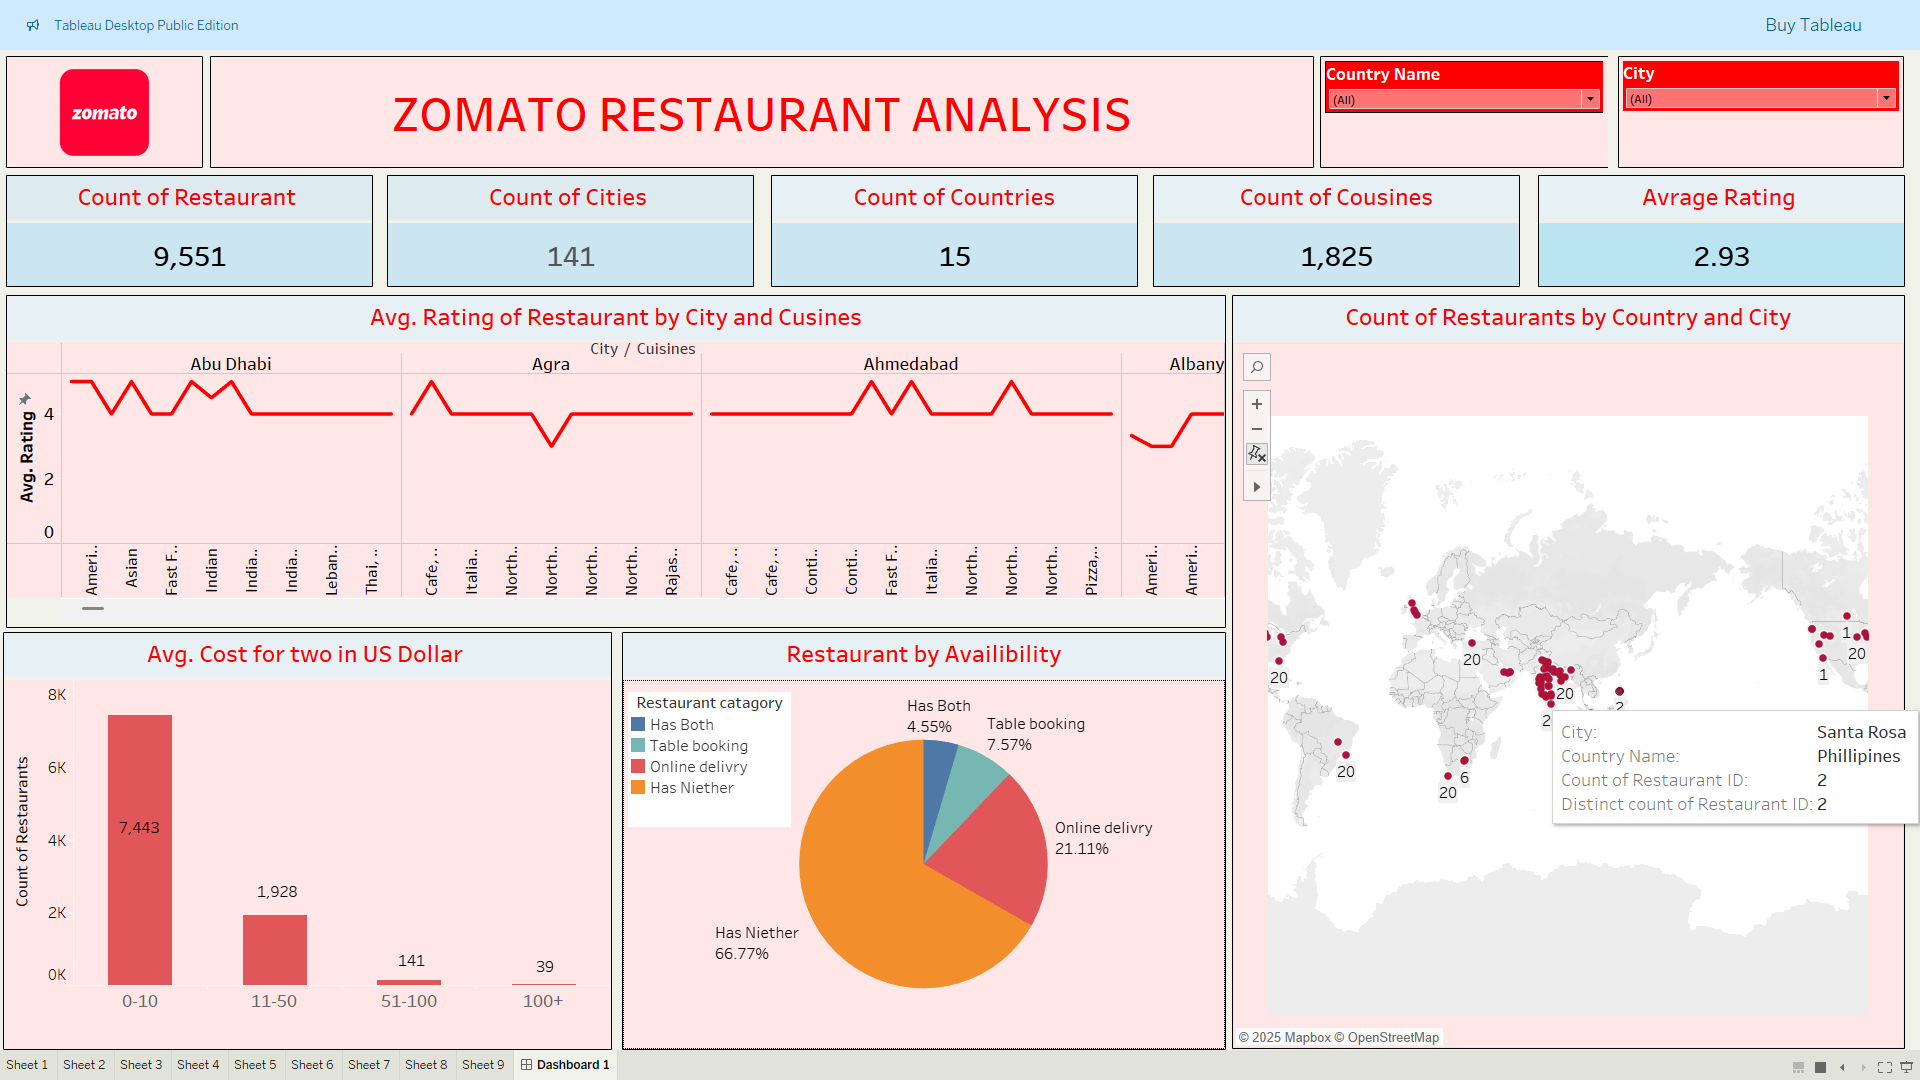

Layout of this report page (visuals, bound fields, positions):
{"tool":"tableau","page":{"name":"Dashboard 1","canvas":[1000,1000],"units":"permille","ordinal":0},"visuals":[{"type":"image","param":"Image/[CITYPNG.COM]Zomato App Logo Icon HD PNG - 3500x3500.png","box":[3,6.2,102.6,112.4]},{"type":"text","box":[109.2,6.2,575.1,112.4]},{"type":"filter","title":"Sheet 6","param":"[federated.1ilu2gv01avdt71aiuwfr08wf33e].[none:country name:nk]","box":[688,7.5,149.1,74.9]},{"type":"filter","title":"Sheet 9","param":"[federated.1ilu2gv01avdt71aiuwfr08wf33e].[none:City:nk]","box":[843.1,7.5,147.9,72.4]},{"type":"worksheet","title":"Sheet 1","mark":"Automatic","box":[3,124.8,191.3,112.4]},{"type":"worksheet","title":"Sheet 2","mark":"Automatic","box":[201.6,124.8,191.3,112.4]},{"type":"worksheet","title":"Sheet 3","mark":"Automatic","box":[401.3,124.8,191.3,112.4]},{"type":"worksheet","title":"Sheet 5","mark":"Automatic","box":[600.5,124.8,191.3,112.4]},{"type":"worksheet","title":"Sheet 4","mark":"Automatic","box":[800.8,124.8,191.3,112.4]},{"type":"worksheet","title":"Sheet 9","mark":"Line","rows":["Rating"],"cols":["City","Cuisines"],"box":[3,244.7,635.5,333.3]},{"type":"worksheet","title":"Sheet 6","mark":"Circle","box":[641.5,244.7,350.6,754.1]},{"type":"worksheet","title":"Sheet 7","mark":"Automatic","rows":["RestaurantID"],"cols":["Calculation_846113822181998592"],"box":[1.8,581.8,317.4,418.2]},{"type":"worksheet","title":"Sheet 8","mark":"Pie","box":[324.1,581.8,314.4,418.2]},{"type":"legend","title":"Sheet 8","param":"[federated.1ilu2gv01avdt71aiuwfr08wf33e].[none:Calculation_171418304030625792:nk","box":[327.1,641.7,85.1,134.8]}]}

Visuals, with their boxes on the dashboard's canvas, which has no fixed pixel size, in thousandths of its width and height (x1, y1, x2, y2). These are canvas units, not pixel positions in the 1920x1080 screenshot, which may show the page scaled, cropped or inside an application window:
image: bbox=(3, 6, 106, 119)
text: bbox=(109, 6, 684, 119)
"Sheet 6" filter: bbox=(688, 8, 837, 82)
"Sheet 9" filter: bbox=(843, 8, 991, 80)
"Sheet 1" worksheet: bbox=(3, 125, 194, 237)
"Sheet 2" worksheet: bbox=(202, 125, 393, 237)
"Sheet 3" worksheet: bbox=(401, 125, 593, 237)
"Sheet 5" worksheet: bbox=(600, 125, 792, 237)
"Sheet 4" worksheet: bbox=(801, 125, 992, 237)
"Sheet 9" worksheet (Line marks): bbox=(3, 245, 638, 578)
"Sheet 6" worksheet (Circle marks): bbox=(642, 245, 992, 999)
"Sheet 7" worksheet: bbox=(2, 582, 319, 1000)
"Sheet 8" worksheet (Pie marks): bbox=(324, 582, 638, 1000)
"Sheet 8" legend: bbox=(327, 642, 412, 776)
